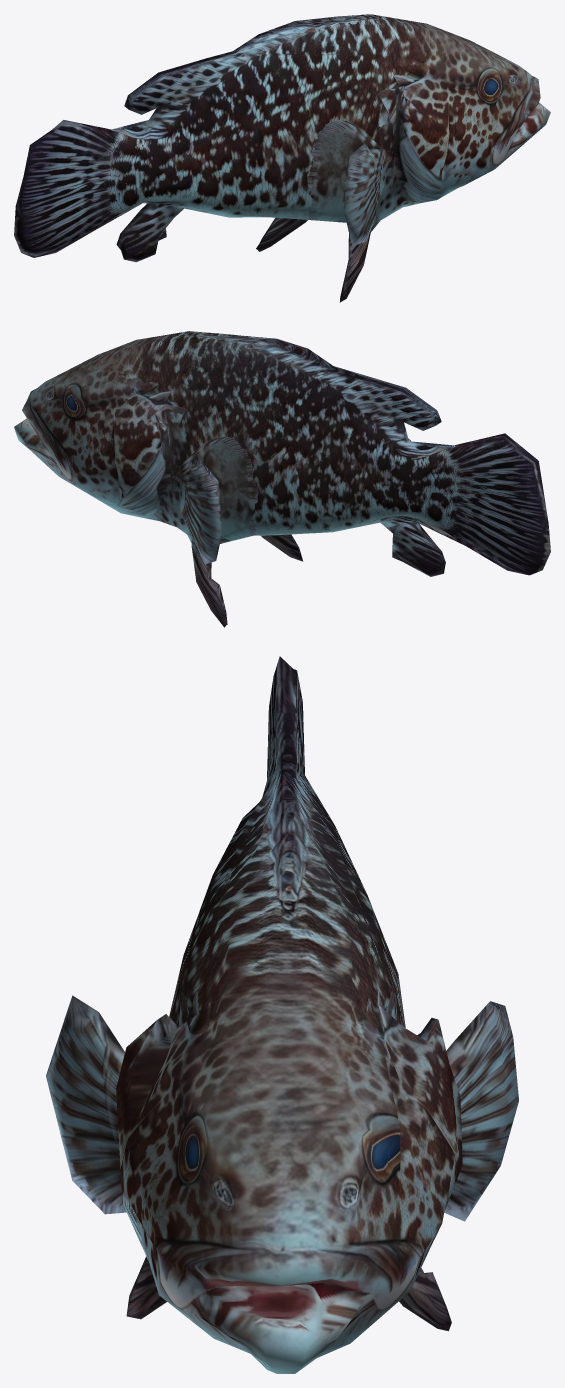
The model's file is grouper.glb.
3 views of the same model, one above another, from view 1: azimuth 30°, elevation 25°; view 2: azimuth 150°, elevation 25°; view 3: azimuth 270°, elevation 25° (orthographic). The views are drawn at different scales.
Parts seen in each view (by area): view 1: tripo_node_f27f4129; view 2: tripo_node_f27f4129; view 3: tripo_node_f27f4129.
Boxes of the visible parts, x1=… form: tripo_node_f27f4129: x1=14, y1=14, x2=550, y2=302; tripo_node_f27f4129: x1=14, y1=331, x2=550, y2=627; tripo_node_f27f4129: x1=46, y1=656, x2=518, y2=1373.
Size of the model in its own units: 96.22 by 44.92 by 37.13.
Materials: 1 (1 with a texture image).
